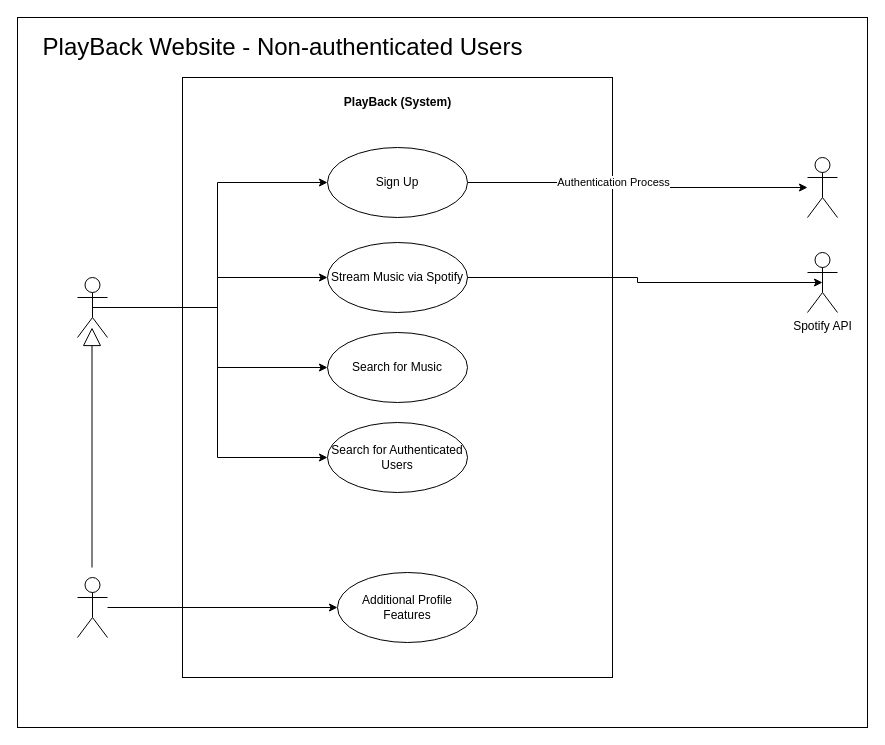
Image size: 885x745. Some labels were removed from this diagram. The shapes that lost their labels are listed below. From the top down, each one's centre as x and y in pixels, then its label:
At point 822,187: "mySQL".
At point 92,307: "User".
At point 92,607: "Authenticated User".
